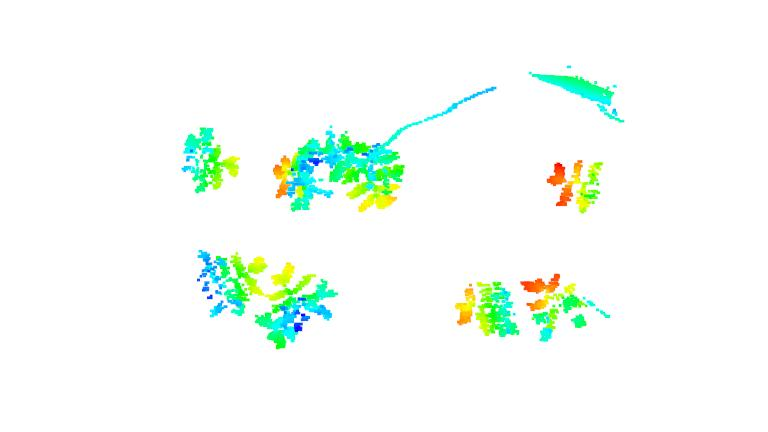chickpea: (253, 260, 339, 351), (323, 130, 406, 213), (195, 247, 268, 323), (518, 272, 594, 343), (179, 125, 244, 195), (452, 279, 523, 343), (272, 138, 334, 211), (546, 157, 605, 215)
